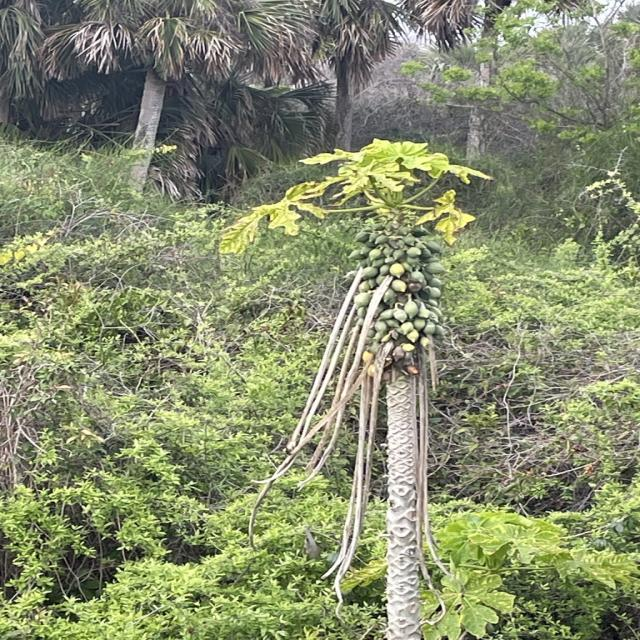Papaya-Tree: (219, 135, 523, 640)
